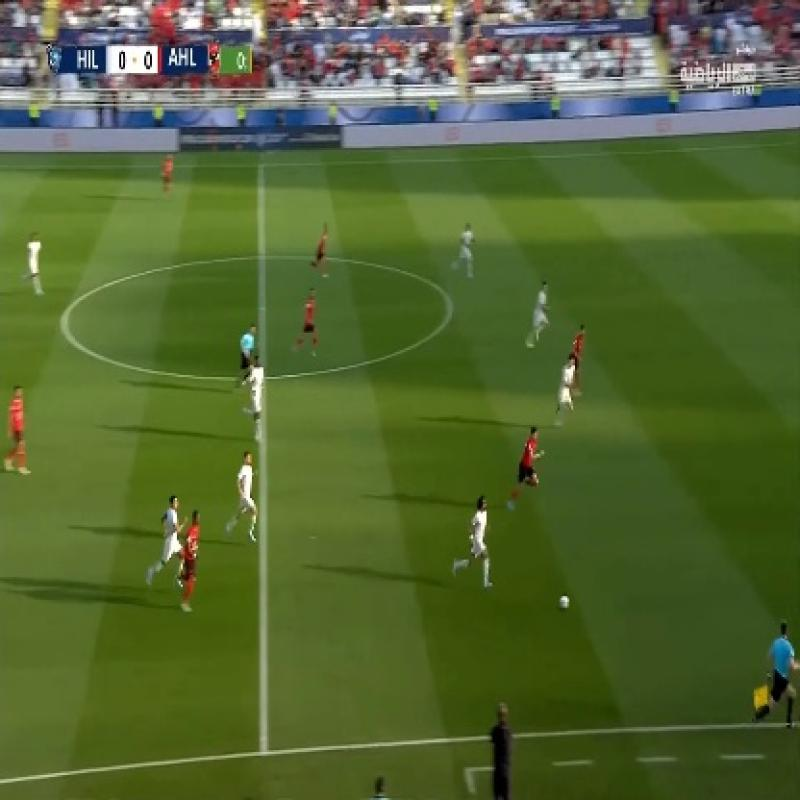13: (252, 150, 271, 177)
14: (248, 240, 275, 273)
15: (250, 362, 275, 398)
16: (248, 725, 281, 769)
c: (430, 286, 470, 328), (44, 299, 83, 338)
